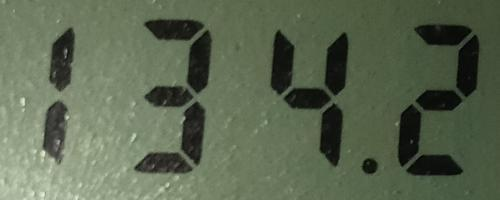.: (359, 156, 378, 176)
